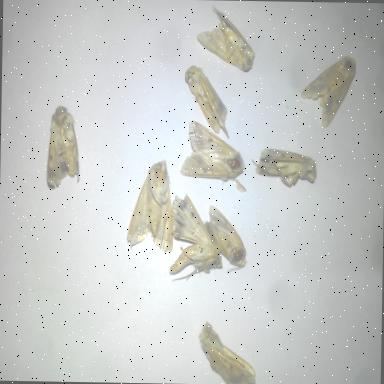abw: (162, 188, 226, 284), (123, 156, 180, 255), (298, 52, 360, 134), (178, 116, 248, 184), (194, 3, 258, 74), (196, 316, 260, 384), (181, 61, 234, 140), (201, 199, 254, 277), (42, 99, 84, 189), (249, 144, 319, 190)
